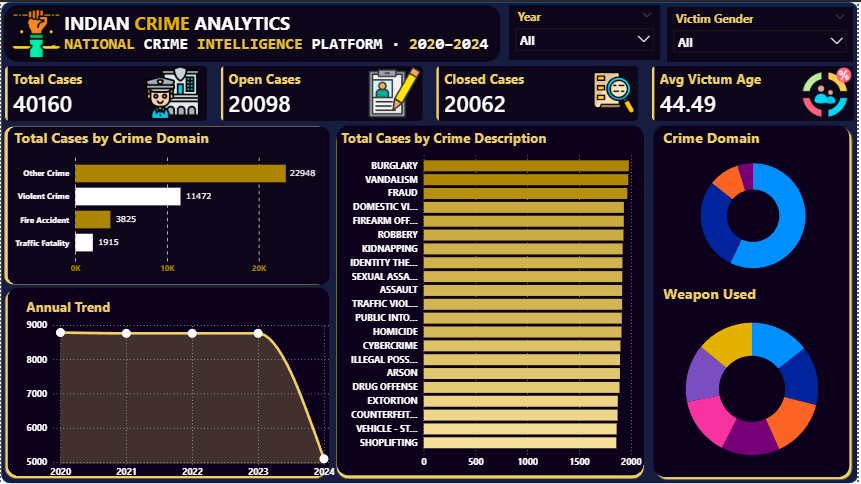

The dashboard page shown, as its layout file describes it:
{"tool":"powerbi","page":{"name":"Overview","canvas":[1280,720],"ordinal":0},"visuals":[{"type":"shape","box":[0,0,1280.6,719.4],"z":0},{"type":"shape","box":[4.1,4.1,741.8,85.2],"z":1000},{"type":"textbox","box":[90.2,7.4,644.3,78.7],"z":2000},{"type":"image","box":[14.4,7.4,75.8,78.8],"z":3000},{"type":"cardVisual","fields":{"Data":["crime_india_powerbi_ready.Total Cases","crime_india_powerbi_ready.Open Cases","crime_india_powerbi_ready.Closed Cases","crime_india_powerbi_ready.Avg Victum Age"]},"box":[0,89.2,1280,94.2],"z":4000},{"type":"slicer","fields":{"Values":["crime_india_powerbi_ready.Year"]},"box":[758.8,4.5,225.6,82.2],"z":5000},{"type":"shape","box":[4.5,180.7,491.5,246.5],"z":6000},{"type":"barChart","fields":{"Category":["crime_india_powerbi_ready.Crime Domain"],"Y":["crime_india_powerbi_ready.Total Cases"]},"box":[14.7,188.2,470.6,228.2],"z":7000},{"type":"shape","box":[4.5,421.8,490.9,292],"z":8000},{"type":"shape","box":[495.9,179.3,470,533.3],"z":9000},{"type":"shape","box":[970,180,303.3,536],"z":10000},{"type":"donutChart","title":"Crime Domain","fields":{"Category":["crime_india_powerbi_ready.Crime Domain"],"Y":["crime_india_powerbi_ready.Total Cases"]},"box":[984.4,188.2,278,234],"z":11000},{"type":"donutChart","title":"Weapon Used","fields":{"Category":["crime_india_powerbi_ready.Weapon Used"],"Y":["crime_india_powerbi_ready.Total Cases"]},"box":[984.4,421.2,274.9,285.3],"z":12000},{"type":"lineChart","title":"Annual Trend","fields":{"Y":["crime_india_powerbi_ready.Total Cases"],"Category":["crime_india_powerbi_ready.Year"]},"box":[32.9,440.7,470.5,279.3],"z":13000},{"type":"barChart","fields":{"Category":["crime_india_powerbi_ready.Crime Description"],"Y":["crime_india_powerbi_ready.Total Cases"]},"box":[503.4,188.2,458.6,516.8],"z":14000},{"type":"slicer","fields":{"Values":["crime_india_powerbi_ready.Victim Gender"]},"box":[994.9,7.5,277.8,82.2],"z":15000},{"type":"image","box":[881.1,95,69.9,81.1],"z":15001},{"type":"image","box":[548.3,95.7,79.5,78.1],"z":15002},{"type":"image","box":[204.3,95.7,103,80.5],"z":15003},{"type":"image","box":[1194.4,95,78.1,78.8],"z":15004}]}

Visuals, with their boxes in screenshot pixels (x1, y1, x2, y2), scaled from the page's 1280x720 canvas onto the 861x484 screenshot:
shape: [0, 0, 860, 483]
shape: [3, 3, 502, 60]
textbox: [61, 5, 494, 58]
image: [10, 5, 61, 58]
cardVisual - crime_india_powerbi_ready.Total Cases x crime_india_powerbi_ready.Open Cases: [0, 60, 860, 123]
slicer - crime_india_powerbi_ready.Year: [510, 3, 662, 58]
shape: [3, 121, 334, 287]
barChart - crime_india_powerbi_ready.Crime Domain x crime_india_powerbi_ready.Total Cases: [10, 127, 326, 280]
shape: [3, 284, 333, 480]
shape: [334, 121, 650, 479]
shape: [652, 121, 856, 481]
"Crime Domain" donutChart: [662, 127, 849, 284]
"Weapon Used" donutChart: [662, 283, 847, 475]
"Annual Trend" lineChart: [22, 296, 339, 483]
barChart - crime_india_powerbi_ready.Crime Description x crime_india_powerbi_ready.Total Cases: [339, 127, 647, 474]
slicer - crime_india_powerbi_ready.Victim Gender: [669, 5, 856, 60]
image: [593, 64, 640, 118]
image: [369, 64, 422, 117]
image: [137, 64, 207, 118]
image: [803, 64, 856, 117]
